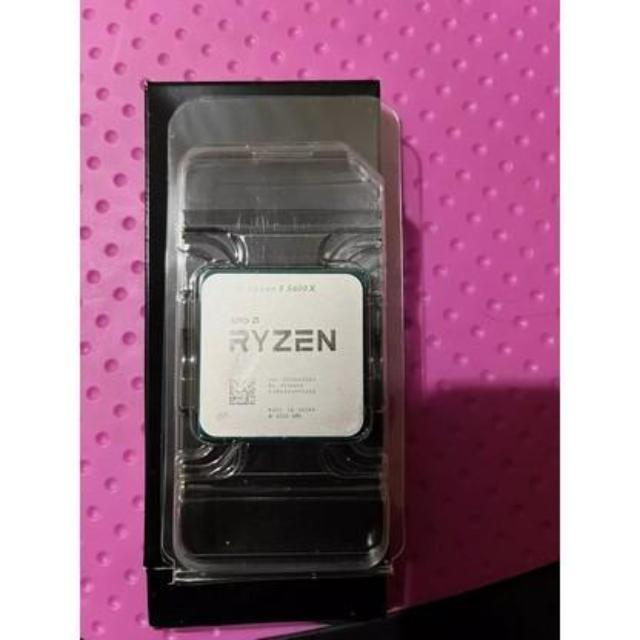CPU: (198, 272, 367, 440)
